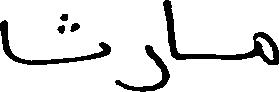X: (0, 9, 108, 69), (117, 0, 165, 91), (254, 27, 278, 69), (167, 0, 175, 86)
